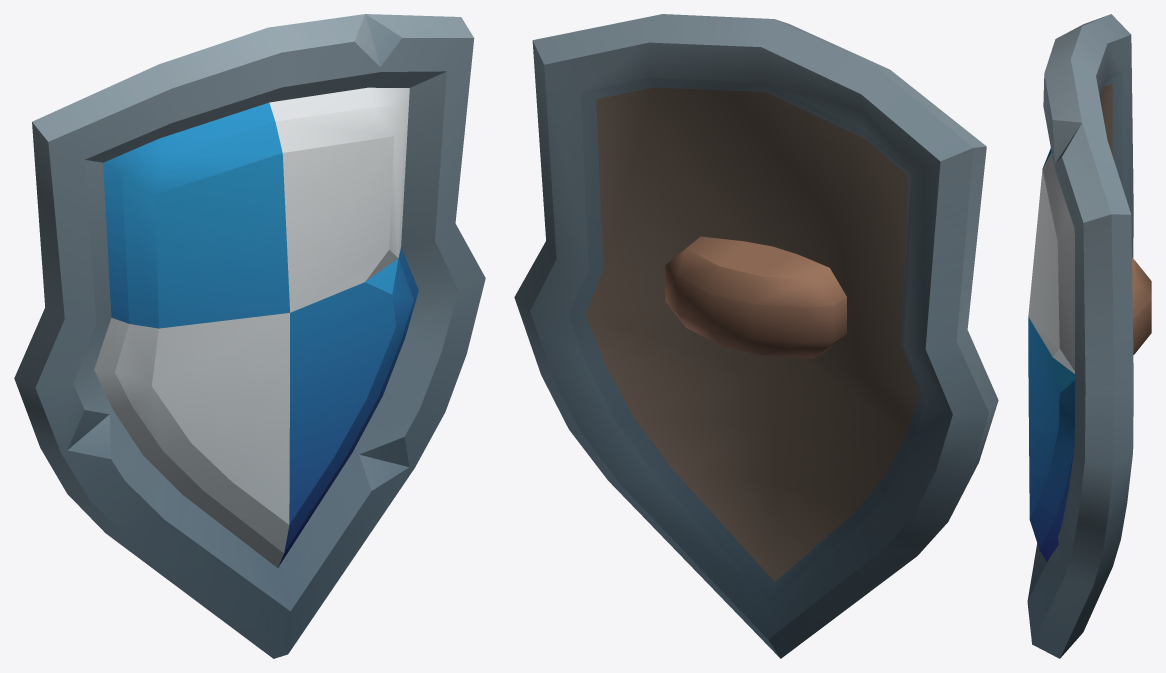
Rendered from shield_B.fbx.
3 renders of one model, left to right at view 1: azimuth 30°, elevation 25°; view 2: azimuth 150°, elevation 25°; view 3: azimuth 270°, elevation 25°, orthographic. The views are drawn at different scales.
Visible parts, largest first — view 1: shield_B; view 2: shield_B; view 3: shield_B.
Part boxes in pixels (bbox=[...]): shield_B: bbox=[14, 14, 485, 658]; shield_B: bbox=[514, 14, 998, 658]; shield_B: bbox=[1027, 14, 1151, 658].
Bounding box in the file's own units: 1.02 × 1.32 × 0.248.
